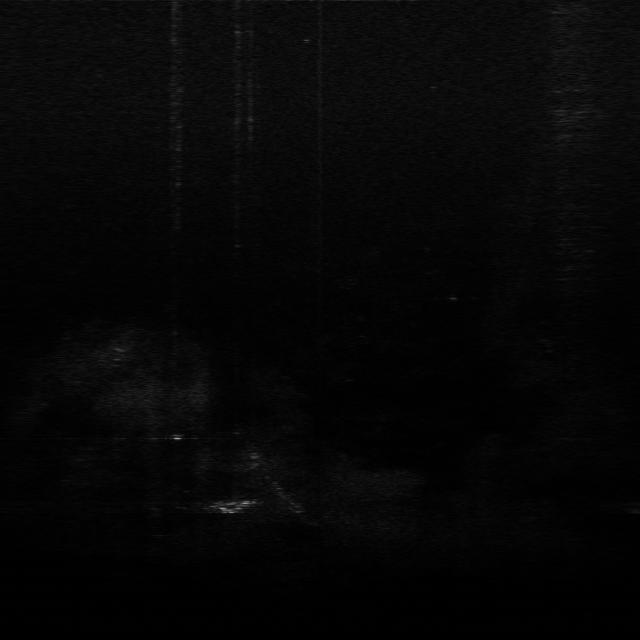rov: (207, 496, 257, 516)
